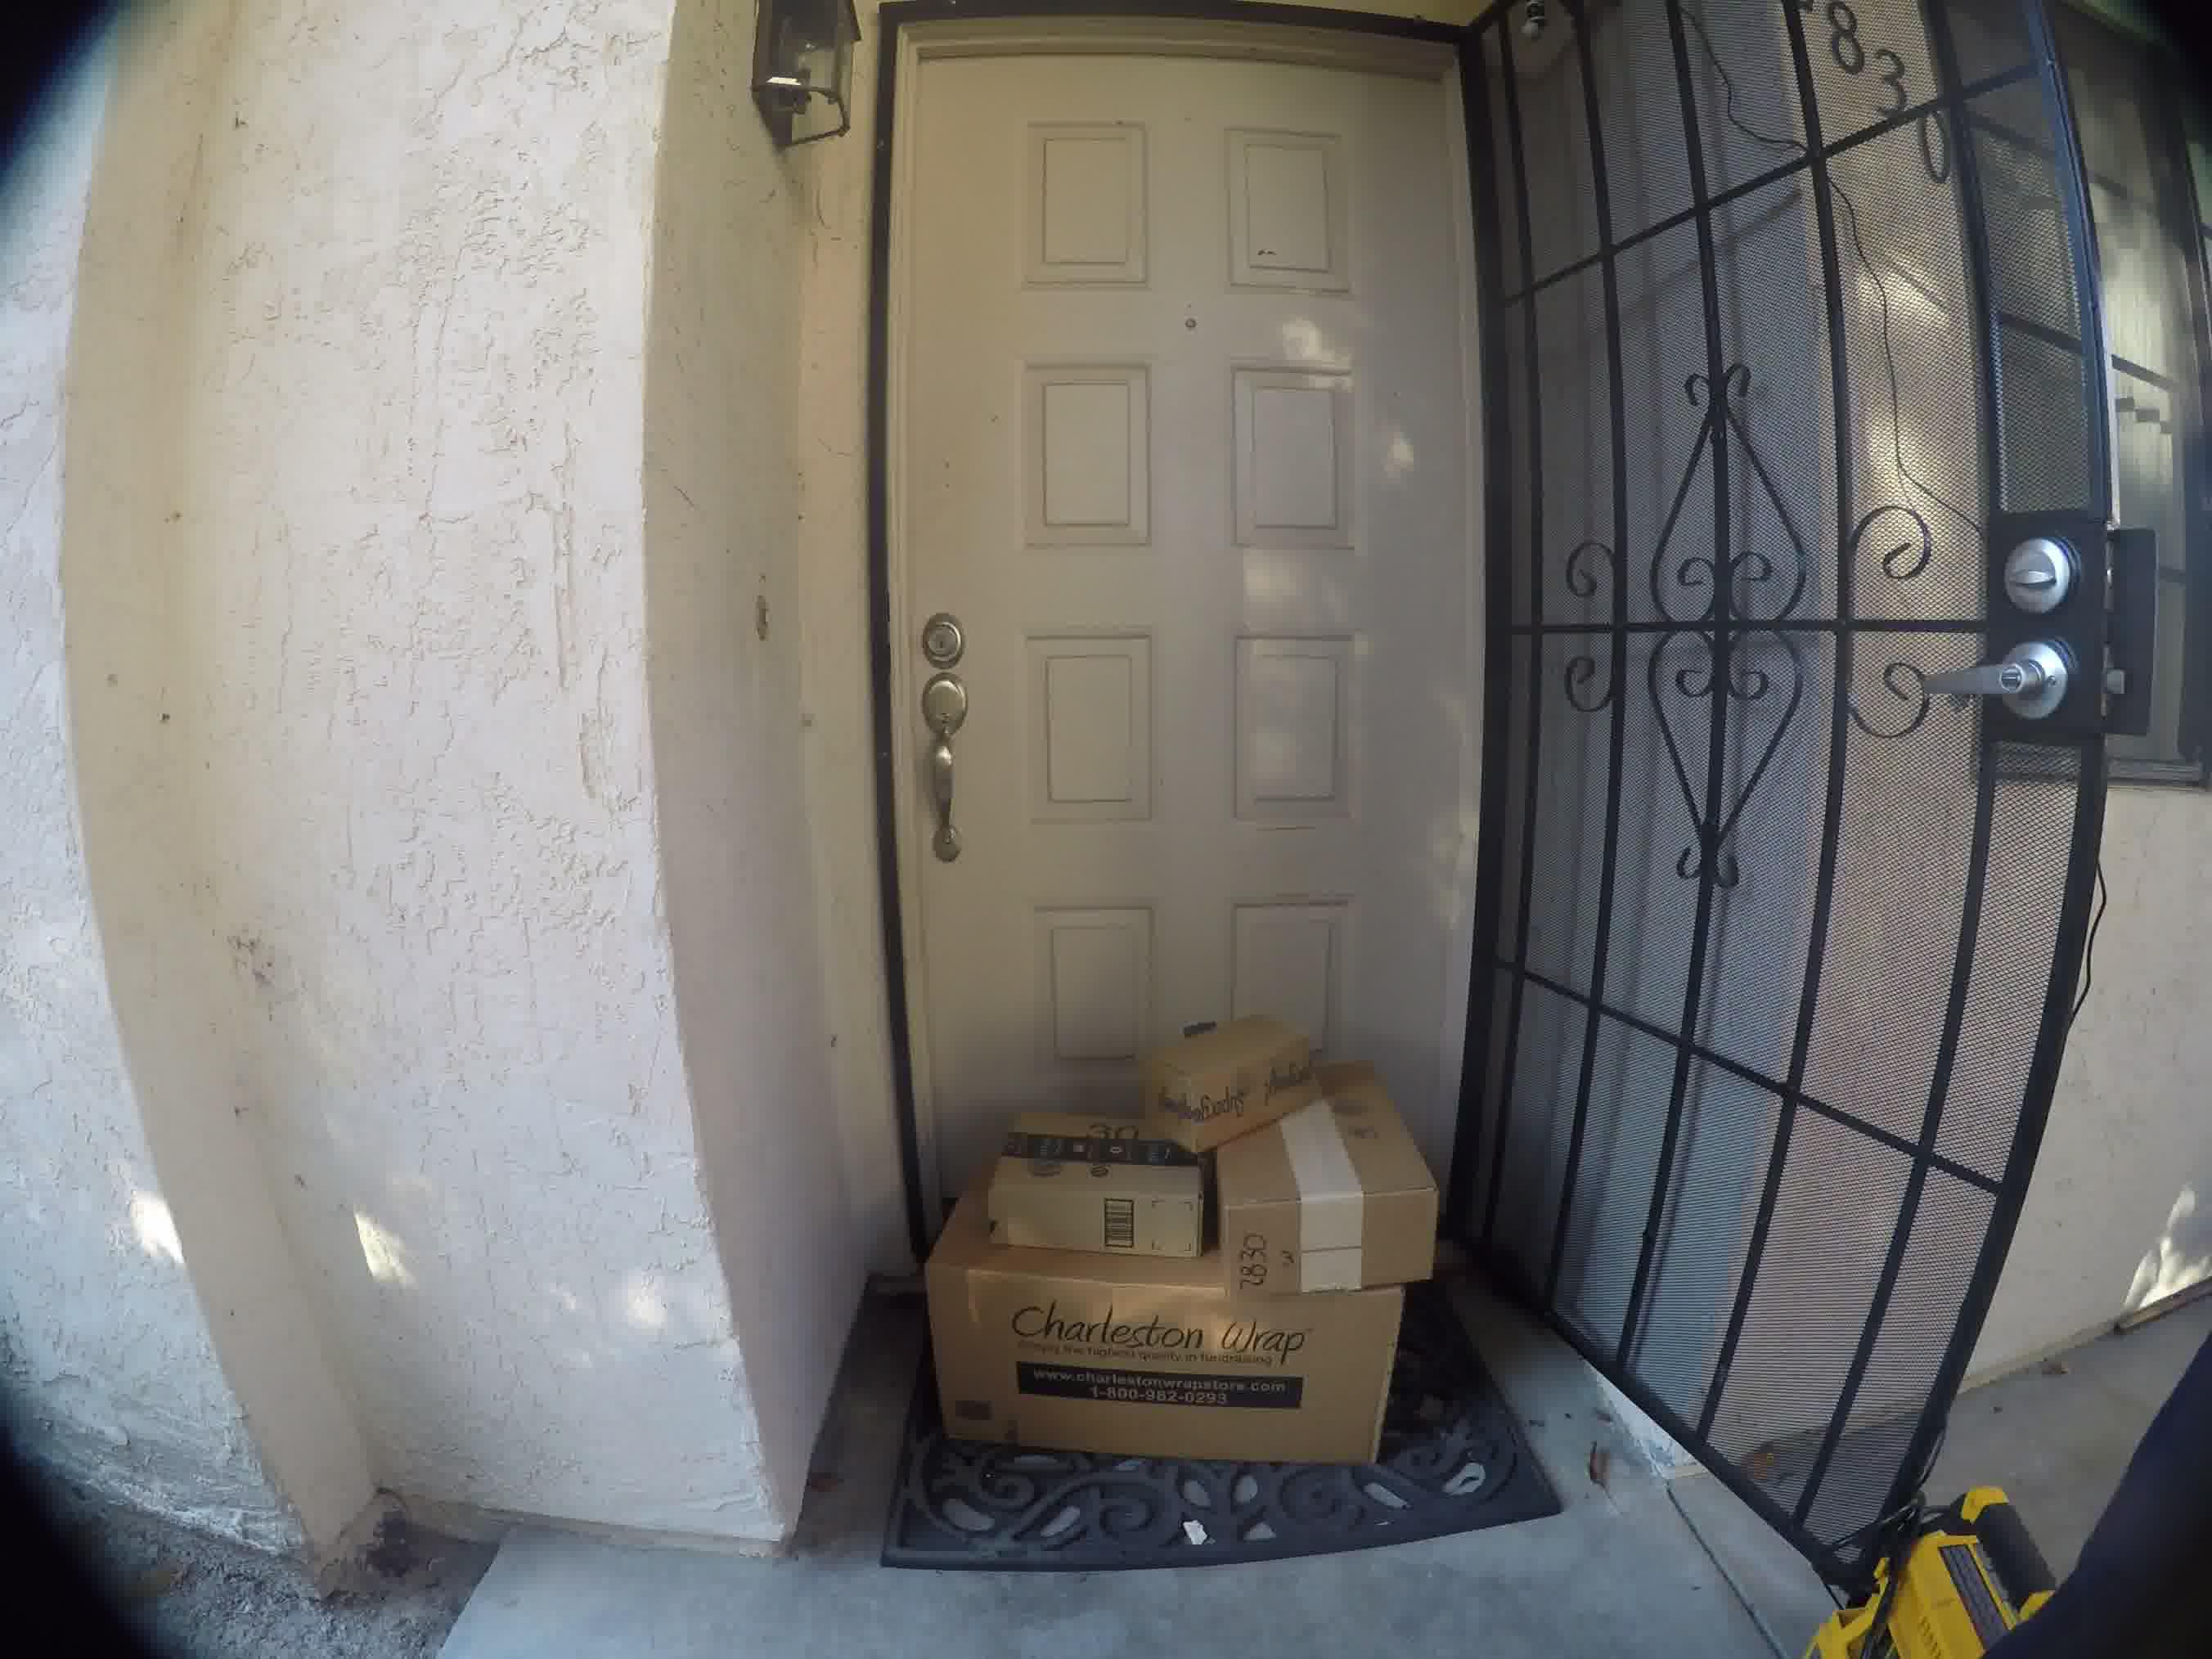box: (928, 1279, 1411, 1485), (1223, 1114, 1472, 1272), (989, 1094, 1207, 1253), (1139, 997, 1324, 1091)
